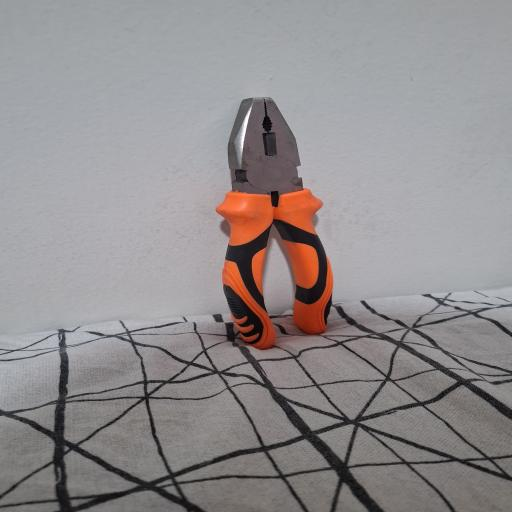alicate: (214, 97, 341, 351)
